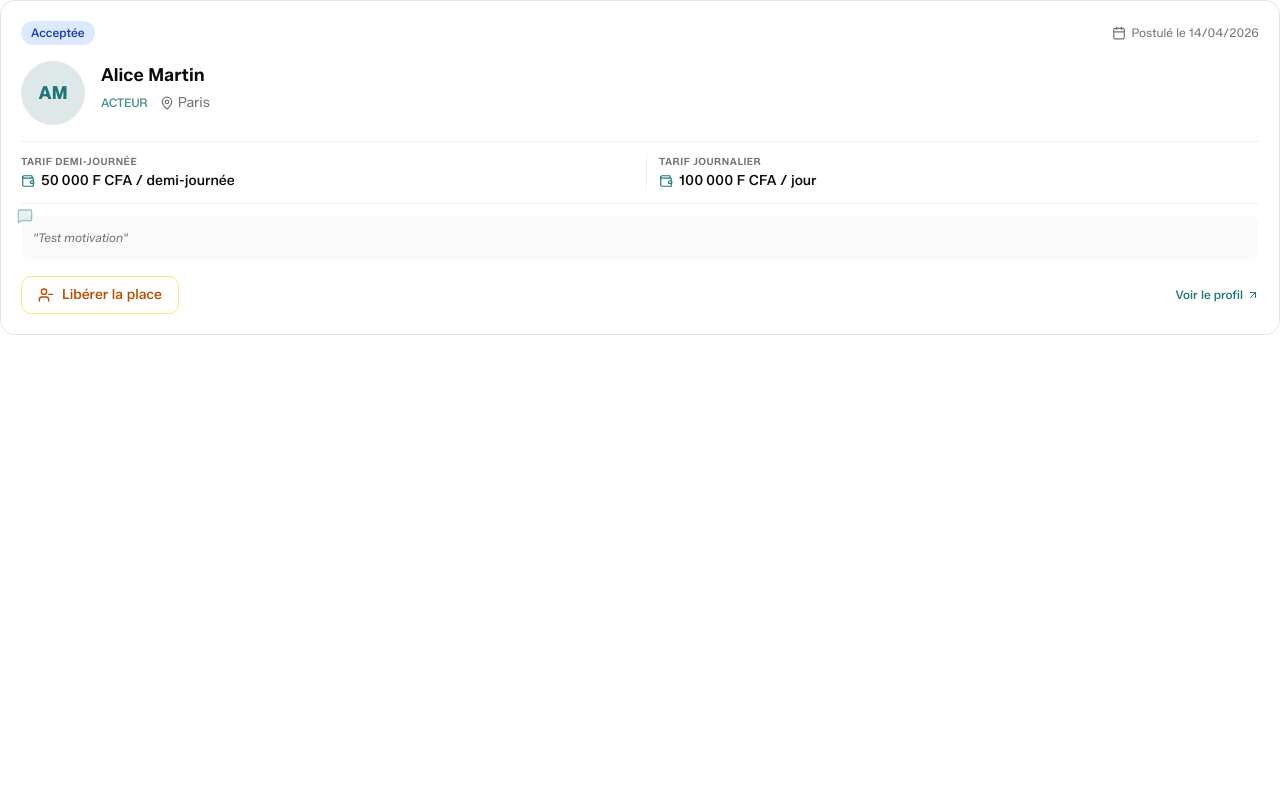
Scenario: ProducerCandidatureCard › UGC release (9-2) › omits the refund clause for a product-only mission (no escrow to refund)
This screenshot has width=1280, height=800.
Click the button with test id "release-candidature-btn". click: (100, 294)
box: [21,276,179,314]
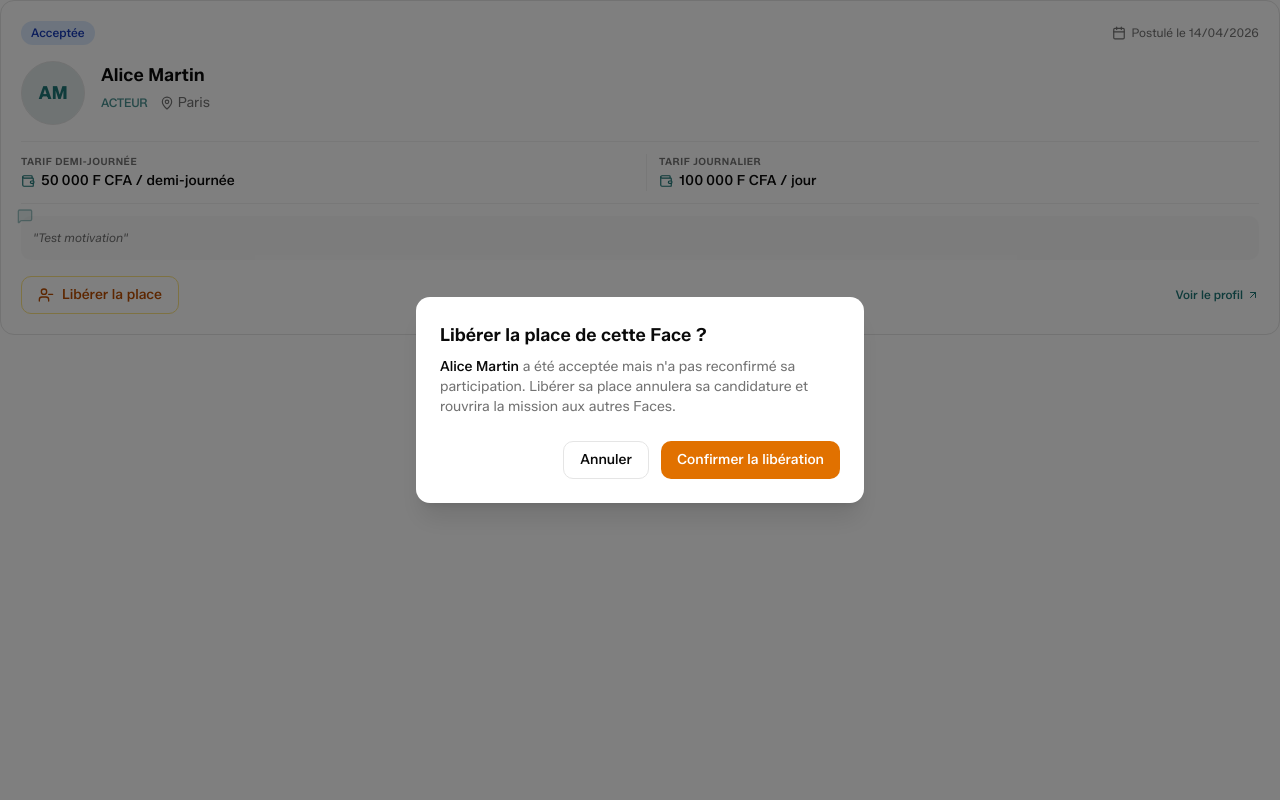
Check: the text "annulera sa candidature et rouvrira la mission" is shown, box [440,358,808,415]
